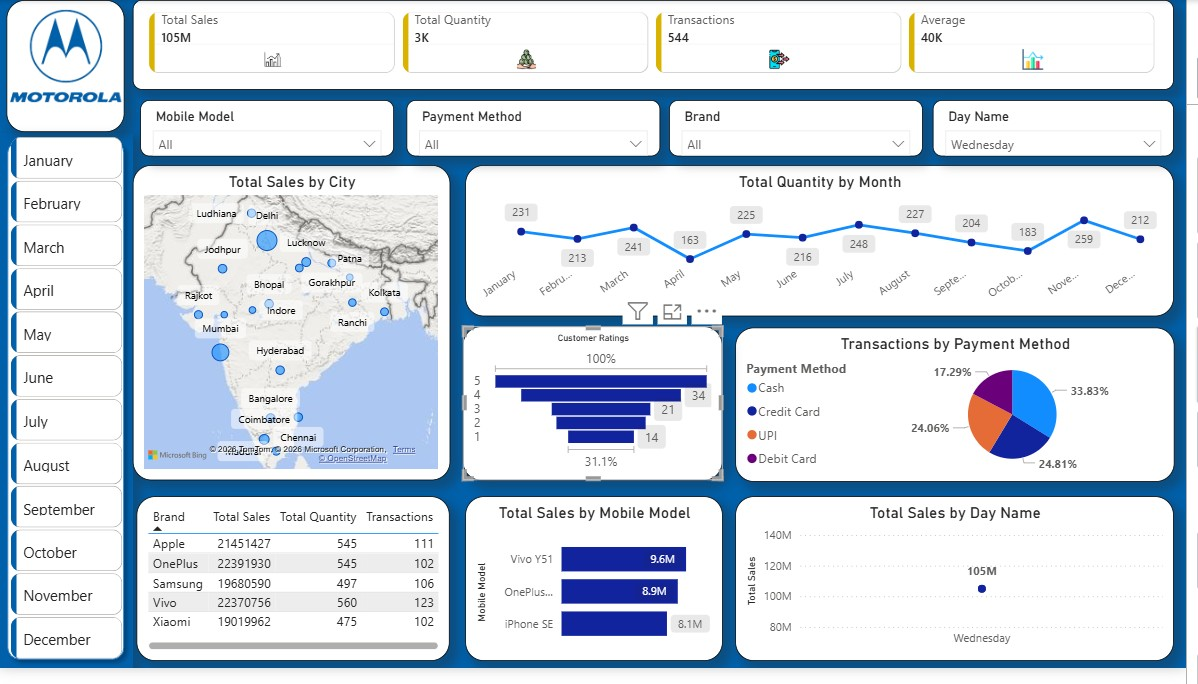

The dashboard page shown, as its layout file describes it:
{"tool":"powerbi","page":{"name":"Page 1","canvas":[1280,720],"ordinal":0},"visuals":[{"type":"shape","box":[8.4,0,127.1,142.2],"z":0},{"type":"image","box":[0,0,143.9,120.4],"z":1000},{"type":"shape","box":[0,142.2,143.9,577.2],"z":2000},{"type":"advancedSlicerVisual","fields":{"Values":["Sales_Data.Date.Variation.Date Hierarchy.Month"]},"box":[8.4,142.2,143.9,572.1],"z":3000},{"type":"cardVisual","fields":{"Data":["Sales_Data.Total Sales","Sales_Data.Total Quantity","Sales_Data.Transactions","Sales_Data.Average"]},"box":[144.2,0,1122.6,97],"z":4000},{"type":"map","fields":{"Category":["Sales_Data.City"],"Size":["Sales_Data.Total Sales"]},"box":[144.2,177.9,342.3,339.6],"z":5000},{"type":"lineChart","fields":{"Category":["Sales_Data.Date.Variation.Date Hierarchy.Month","Sales_Data.Date.Variation.Date Hierarchy.Day"],"Y":["Sales_Data.Total Quantity"]},"box":[502.7,177.9,764.1,163.1],"z":6000},{"type":"clusteredBarChart","fields":{"Category":["Sales_Data.Mobile Model"],"Y":["Sales_Data.Total Sales"]},"box":[502.7,535,277.6,177.9],"z":7000},{"type":"pieChart","fields":{"Category":["Sales_Data.Payment Method"],"Y":["Sales_Data.Transactions"]},"box":[793.3,353.3,473.3,166.7],"z":8000},{"type":"funnel","title":" Customer Ratings","fields":{"Category":["Sales_Data.Customer Ratings"],"Y":["CountNonNull(Sales_Data.Customer Ratings)"]},"box":[500,351.1,280,166.7],"z":9000},{"type":"areaChart","fields":{"Category":["Sales_Data.Day Name"],"Y":["Sales_Data.Total Sales"]},"box":[793.8,535,473,177.9],"z":10000},{"type":"tableEx","fields":{"Values":["Sales_Data.Brand","Sales_Data.Total Sales","Sales_Data.Total Quantity","Sales_Data.Transactions"]},"box":[148.9,535.6,337.8,177.8],"z":11000},{"type":"slicer","fields":{"Values":["Sales_Data.Mobile Model"]},"box":[152.3,107.8,273.6,60.6],"z":12000},{"type":"slicer","fields":{"Values":["Sales_Data.Payment Method"]},"box":[439.3,107.8,273.6,60.6],"z":13000},{"type":"slicer","fields":{"Values":["Sales_Data.Brand"]},"box":[722.3,107.8,273.6,60.6],"z":14000},{"type":"slicer","fields":{"Values":["Sales_Data.Day Name"]},"box":[1006.7,107.8,260.1,60.6],"z":15000}]}

Visuals, with their boxes in screenshot pixels (x1, y1, x2, y2), scaled from the page's 1280x720 canvas onto the 1198x684 screenshot:
shape: <bbox>8, 0, 127, 135</bbox>
image: <bbox>0, 0, 135, 114</bbox>
shape: <bbox>0, 135, 135, 683</bbox>
advancedSlicerVisual - Sales_Data.Date.Variation.Date Hierarchy.Month: <bbox>8, 135, 143, 679</bbox>
cardVisual - Sales_Data.Total Sales x Sales_Data.Total Quantity: <bbox>135, 0, 1186, 92</bbox>
map - Sales_Data.City x Sales_Data.Total Sales: <bbox>135, 169, 455, 492</bbox>
lineChart - Sales_Data.Date.Variation.Date Hierarchy.Month x Sales_Data.Date.Variation.Date Hierarchy.Day: <bbox>470, 169, 1186, 324</bbox>
clusteredBarChart - Sales_Data.Mobile Model x Sales_Data.Total Sales: <bbox>470, 508, 730, 677</bbox>
pieChart - Sales_Data.Payment Method x Sales_Data.Transactions: <bbox>742, 336, 1185, 494</bbox>
" Customer Ratings" funnel: <bbox>468, 334, 730, 492</bbox>
areaChart - Sales_Data.Day Name x Sales_Data.Total Sales: <bbox>743, 508, 1186, 677</bbox>
tableEx - Sales_Data.Brand x Sales_Data.Total Sales: <bbox>139, 509, 456, 678</bbox>
slicer - Sales_Data.Mobile Model: <bbox>143, 102, 399, 160</bbox>
slicer - Sales_Data.Payment Method: <bbox>411, 102, 667, 160</bbox>
slicer - Sales_Data.Brand: <bbox>676, 102, 932, 160</bbox>
slicer - Sales_Data.Day Name: <bbox>942, 102, 1186, 160</bbox>
